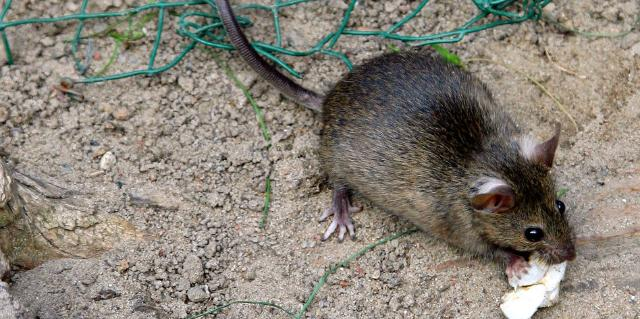rat: (307, 38, 585, 280)
